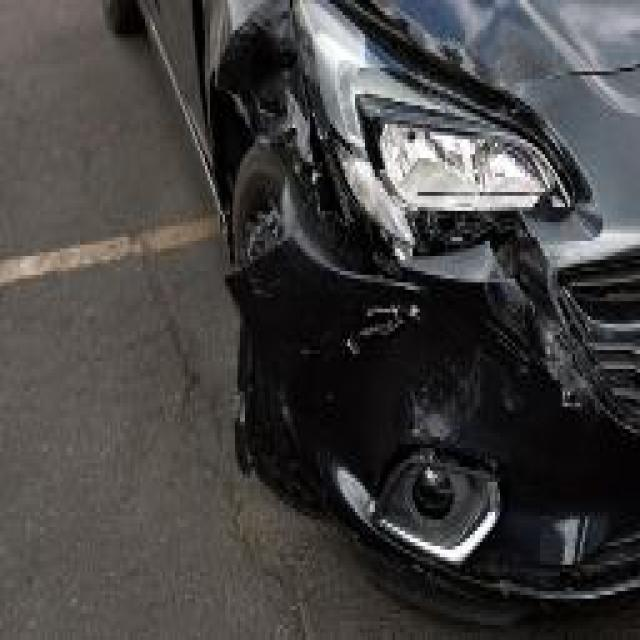Bumper: (282, 215, 640, 576)
Light: (298, 0, 582, 233)
